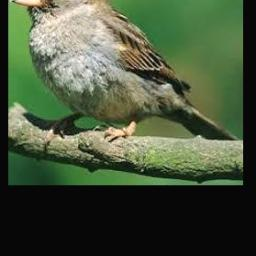Sparrow: (10, 0, 239, 146)
